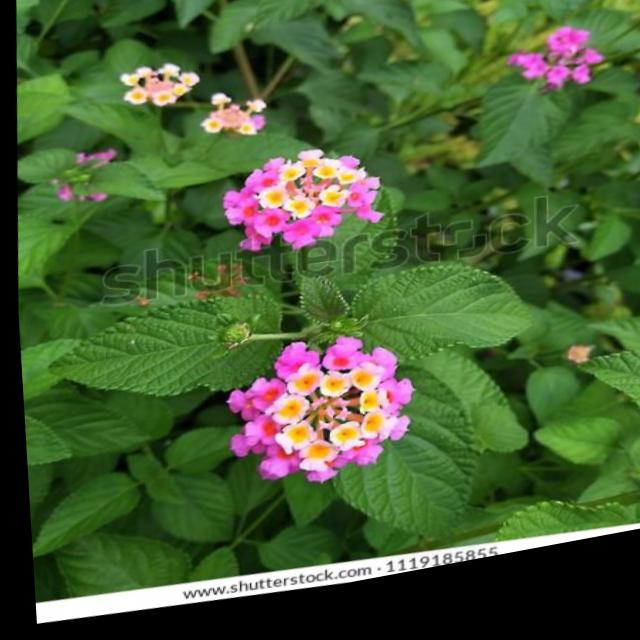Flower: (219, 322, 430, 520), (204, 142, 393, 269), (509, 33, 602, 127), (115, 57, 205, 118), (202, 93, 284, 154)
